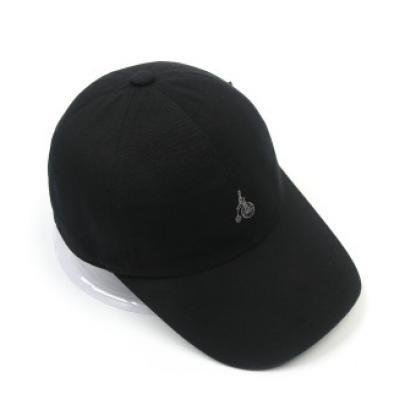cap: (44, 54, 367, 372)
